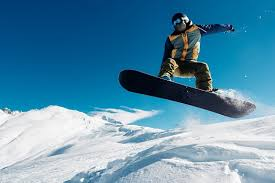snowboard: (117, 67, 257, 120)
